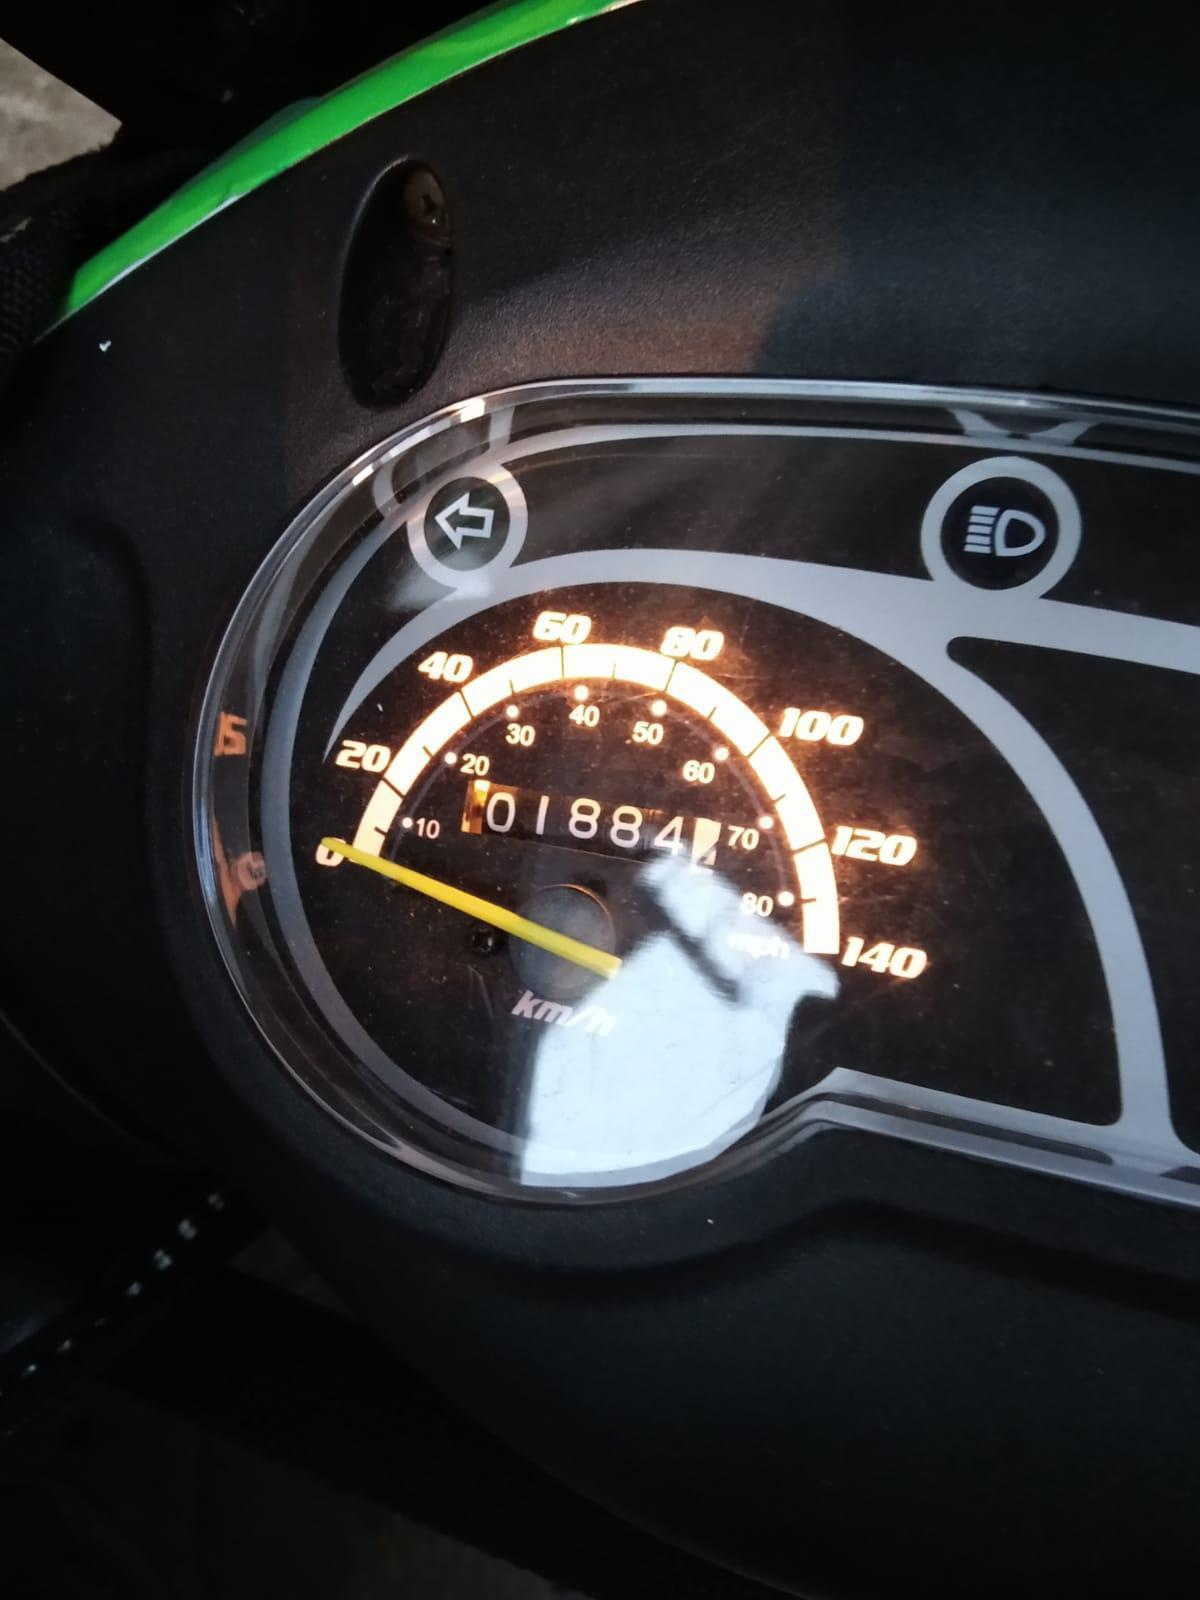0: (485, 790, 516, 834)
1: (531, 792, 552, 837)
4: (652, 811, 684, 859), (695, 835, 721, 877)
8: (609, 803, 644, 850), (568, 795, 601, 842)
odometer: (459, 775, 724, 882)
